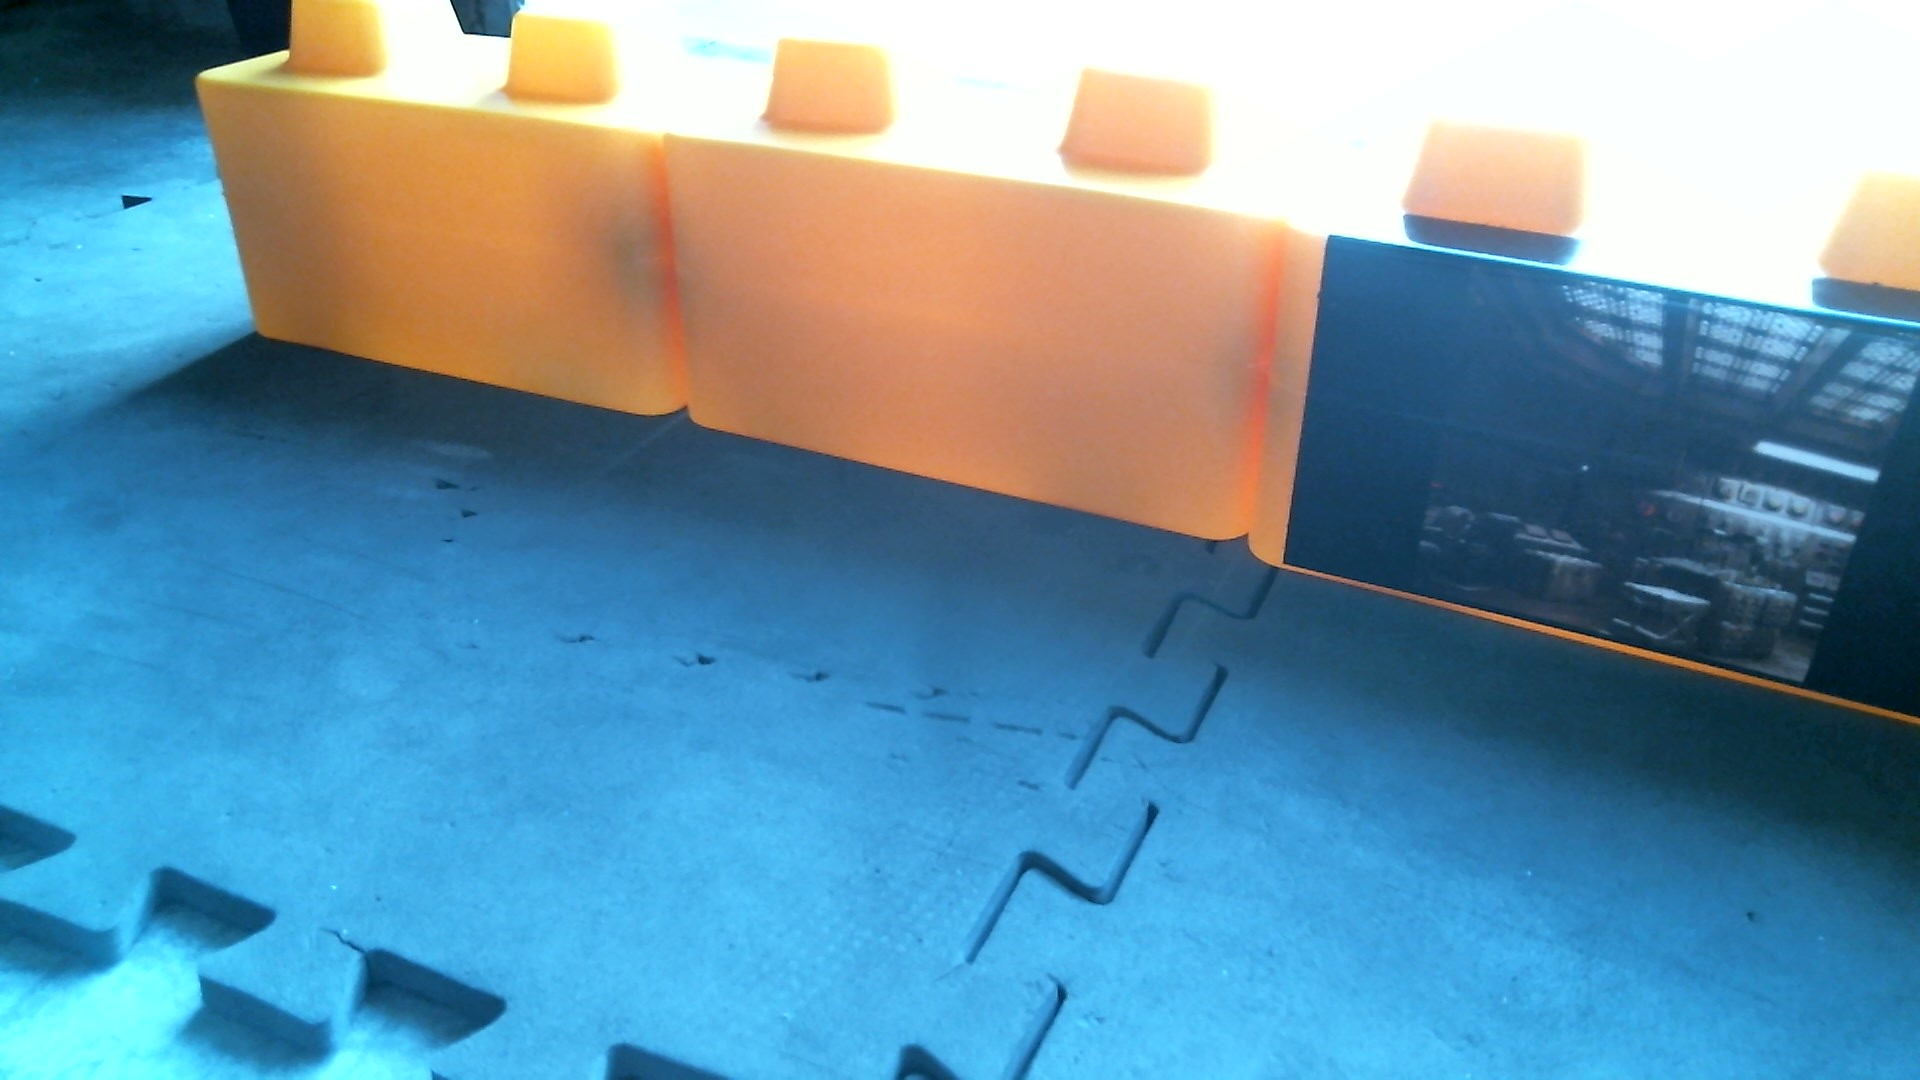right: (179, 3, 1919, 717)
